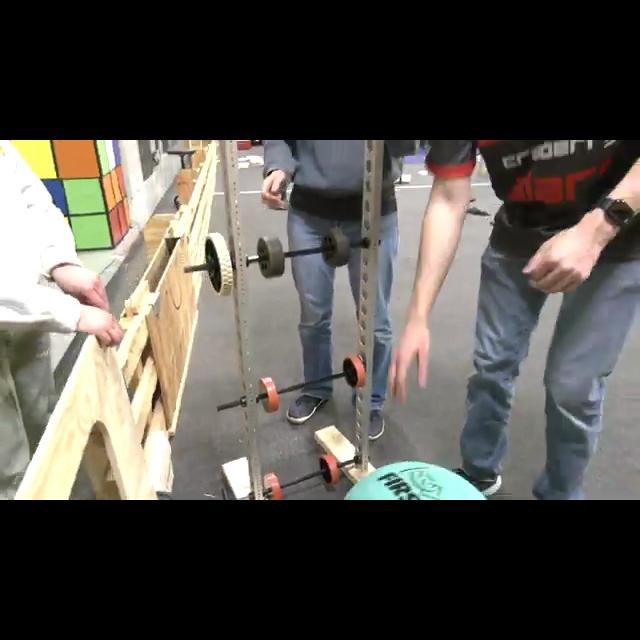ALGAE: (342, 459, 488, 499)
